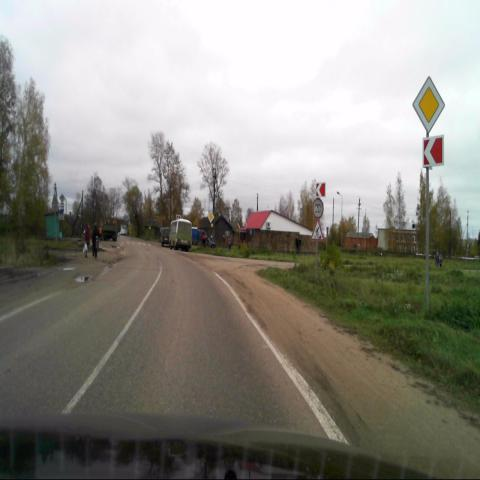1_25: (310, 219, 324, 240)
